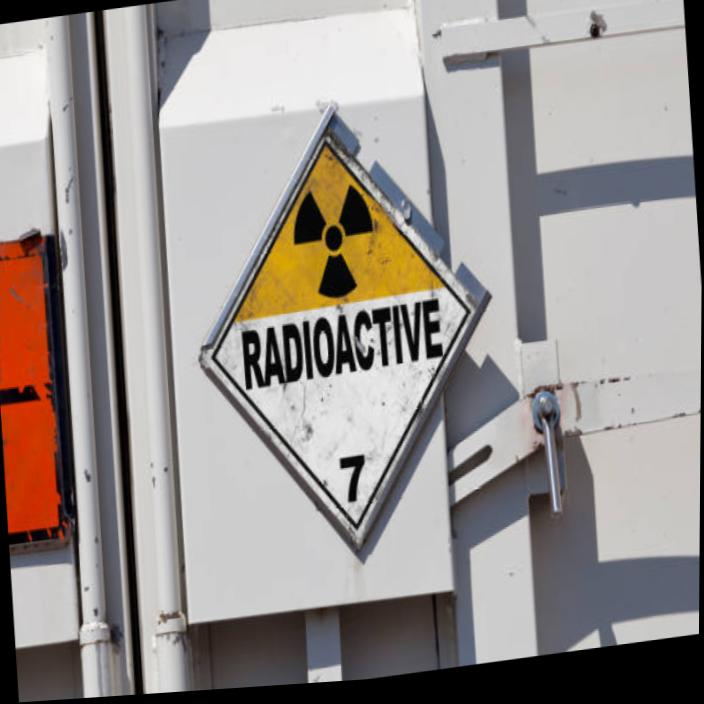doorway: (201, 112, 479, 546)
